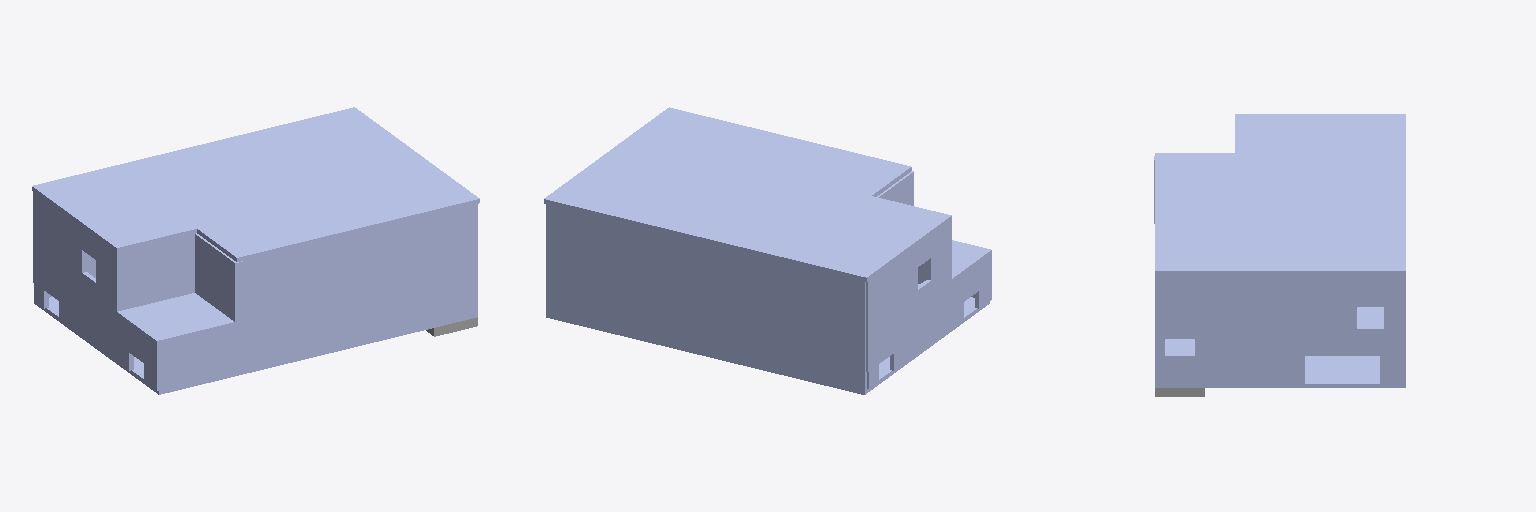
Rendered from Room 2 Primitive.obj.
The picture shows the model from 3 angles: view 1: azimuth 30°, elevation 25°; view 2: azimuth 150°, elevation 25°; view 3: azimuth 270°, elevation 25°; orthographic projection.
Parts seen in each view (by area): view 1: Room 2 Primitive; view 2: Room 2 Primitive; view 3: Room 2 Primitive.
Boxes of the visible parts, x1=… form: Room 2 Primitive: x1=32, y1=107, x2=479, y2=394; Room 2 Primitive: x1=544, y1=107, x2=991, y2=394; Room 2 Primitive: x1=1154, y1=114, x2=1405, y2=396.
Size of the model in its own units: 74.5 by 28 by 50.13.